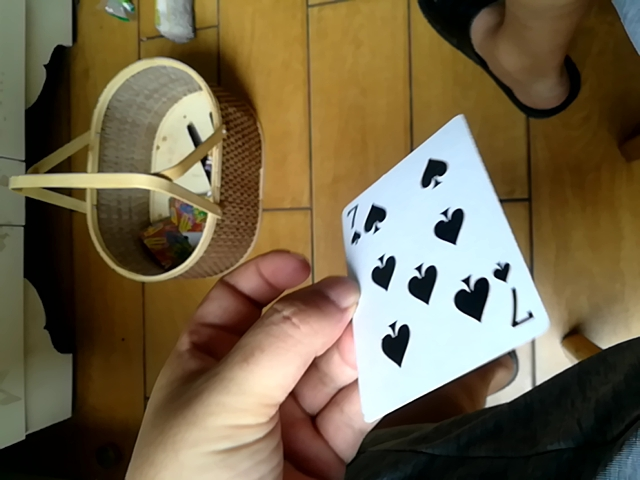ht 7: (339, 110, 549, 428)
